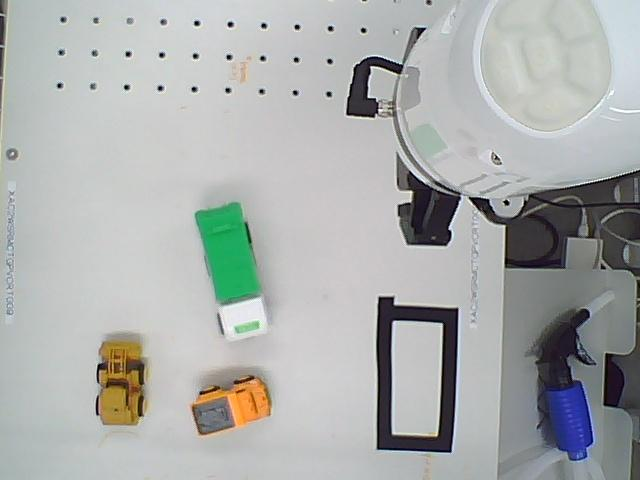Diesel car: (188, 372, 272, 442)
Electric car: (191, 197, 277, 348)
Gasoline car: (92, 333, 145, 434)
